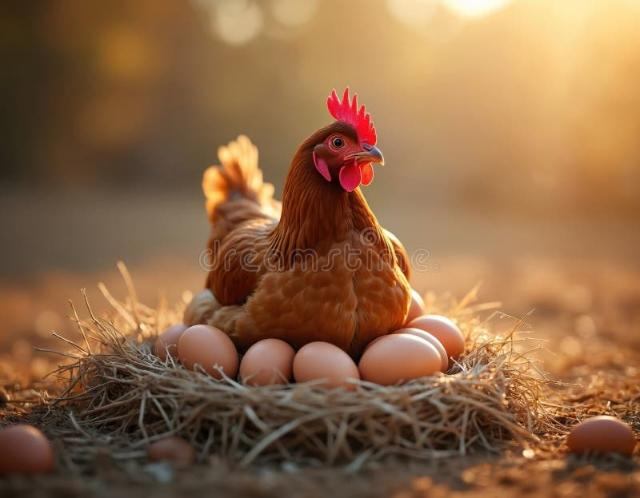Chicken: (183, 86, 410, 353)
